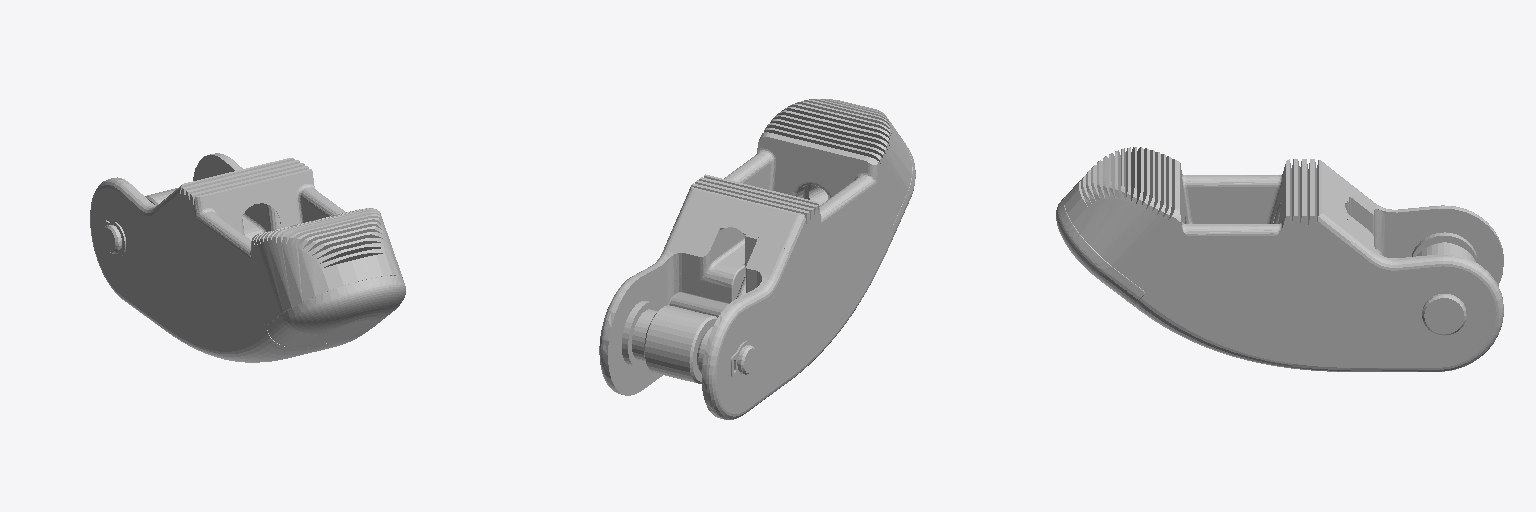
The model's file is rf_distal.obj.
The picture shows the model from 3 angles: view 1: azimuth 30°, elevation 25°; view 2: azimuth 150°, elevation 25°; view 3: azimuth 270°, elevation 25°; orthographic projection.
Parts seen in each view (by area): view 1: ring_distal_tip_SIH_right.076, ring_distal_base_SIH_right.075, ring_distal_spring_indication_SIH_right.071; view 2: ring_distal_tip_SIH_right.076, ring_distal_base_SIH_right.075, ring_distal_spring_indication_SIH_right.071; view 3: ring_distal_tip_SIH_right.076, ring_distal_base_SIH_right.075, ring_distal_spring_indication_SIH_right.071.
Part boxes in pixels (x1,y1,x2,y2): ring_distal_tip_SIH_right.076: (164, 158, 405, 362); ring_distal_base_SIH_right.075: (90, 153, 280, 328); ring_distal_spring_indication_SIH_right.071: (103, 188, 177, 253); ring_distal_tip_SIH_right.076: (674, 99, 915, 383); ring_distal_base_SIH_right.075: (599, 218, 788, 419); ring_distal_spring_indication_SIH_right.071: (622, 277, 756, 383); ring_distal_tip_SIH_right.076: (1056, 147, 1350, 371); ring_distal_base_SIH_right.075: (1273, 185, 1503, 371); ring_distal_spring_indication_SIH_right.071: (1412, 232, 1477, 335).
Bounding box in the file's own units: 20 × 26.5 × 60.06.